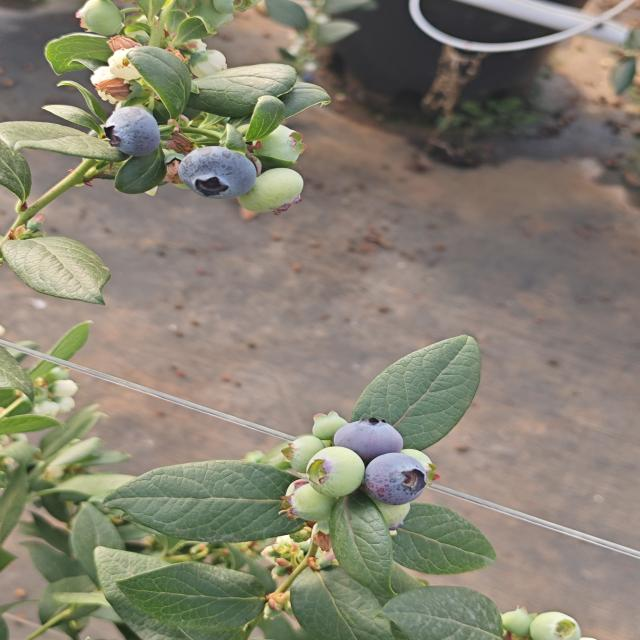ripe: (174, 142, 264, 201), (362, 449, 436, 510), (326, 416, 415, 466), (98, 104, 164, 158)
